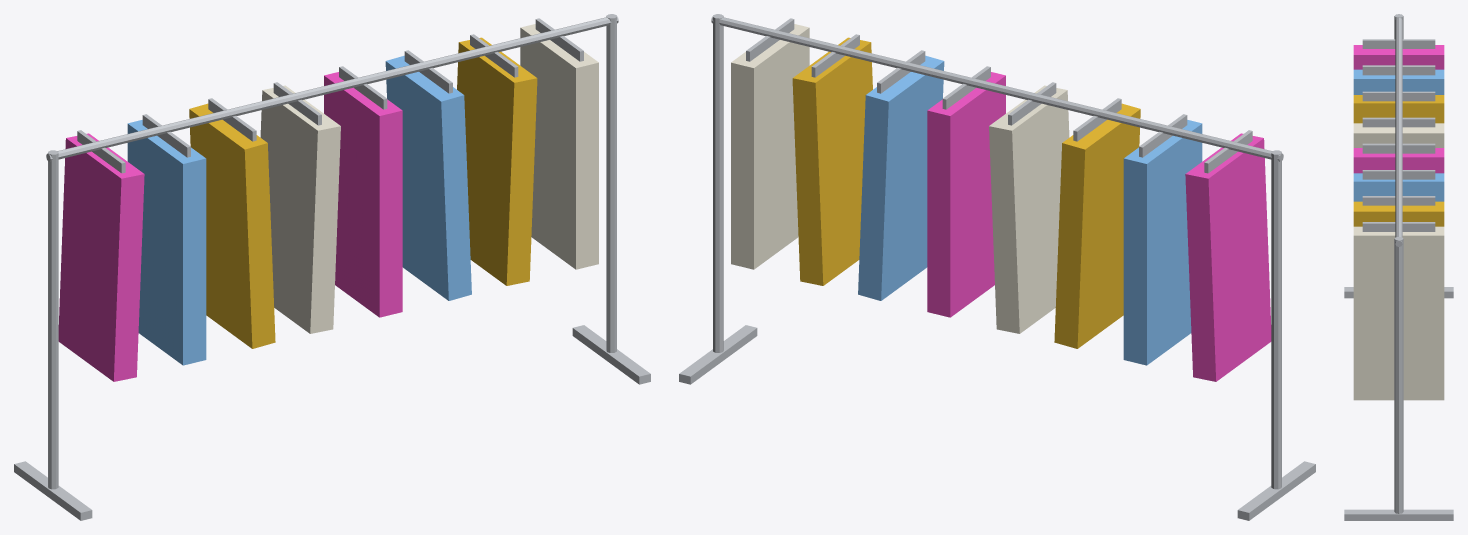
File: rack_princesses.glb
3 views of the same model, side by side, from view 1: azimuth 30°, elevation 25°; view 2: azimuth 150°, elevation 25°; view 3: azimuth 270°, elevation 25° (orthographic). The views are drawn at different scales.
Visible parts, largest first — view 1: costume, post_rack_chrome, bar_rack_chrome, hanger_rack_chrome, foot_rack_chrome; view 2: costume, post_rack_chrome, bar_rack_chrome, hanger_rack_chrome, foot_rack_chrome; view 3: costume, hanger_rack_chrome, post_rack_chrome, bar_rack_chrome, foot_rack_chrome.
Boxes of the visible parts, x1,y1,x2,y2 form: costume: (58, 24, 598, 381); post_rack_chrome: (48, 14, 616, 489); bar_rack_chrome: (46, 15, 618, 161); hanger_rack_chrome: (77, 18, 583, 173); foot_rack_chrome: (14, 325, 650, 520); costume: (731, 24, 1271, 381); post_rack_chrome: (713, 14, 1281, 489); bar_rack_chrome: (711, 15, 1283, 161); hanger_rack_chrome: (746, 18, 1252, 173); foot_rack_chrome: (679, 325, 1315, 520); costume: (1353, 45, 1444, 400); hanger_rack_chrome: (1362, 39, 1435, 231); post_rack_chrome: (1394, 14, 1403, 513); bar_rack_chrome: (1395, 18, 1402, 246); foot_rack_chrome: (1344, 287, 1453, 520).
Bounding box in the file's own units: 2.96 × 1.7 × 0.6.
